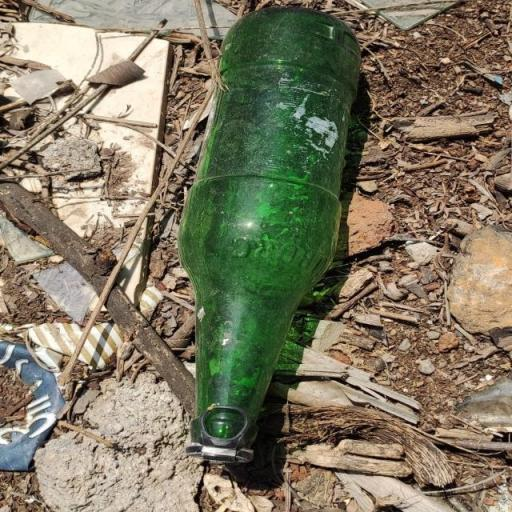glass: (159, 5, 376, 469)
